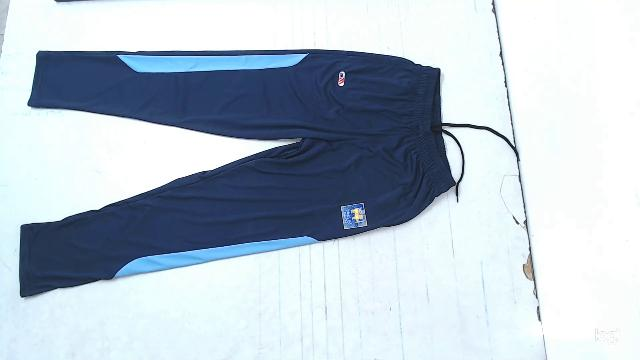new-garment: (20, 49, 461, 296)
